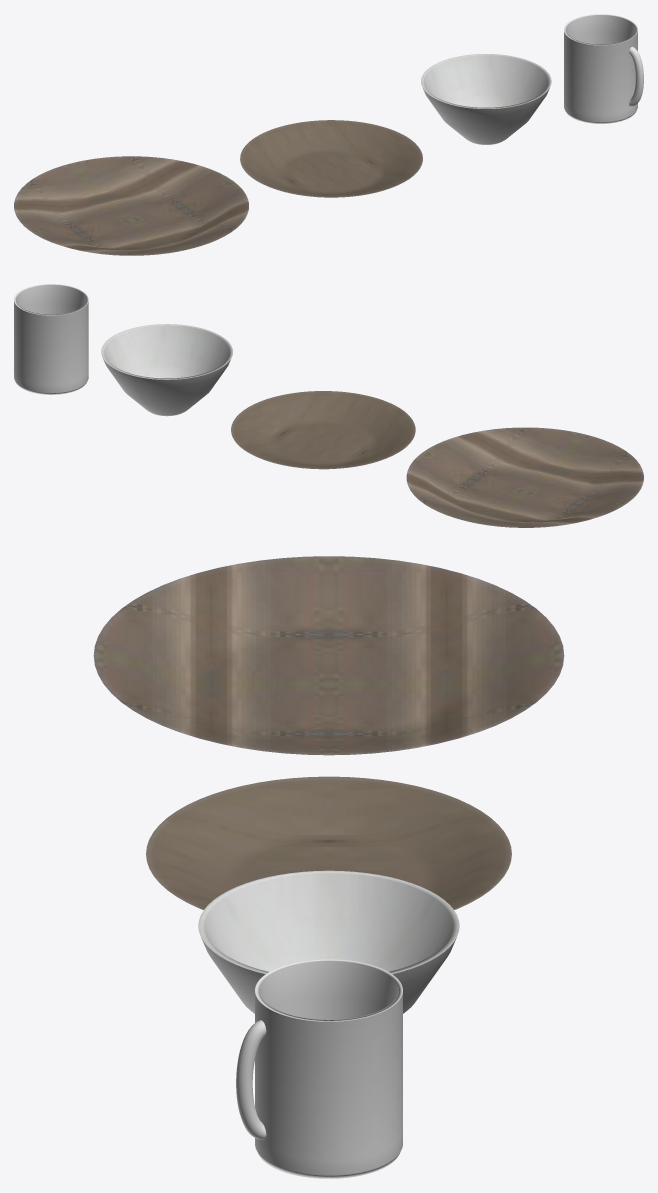
File: MAR-05.glb
The picture shows the model from 3 angles, top to bottom: view 1: azimuth 30°, elevation 25°; view 2: azimuth 150°, elevation 25°; view 3: azimuth 270°, elevation 25°; orthographic projection. The views are drawn at different scales.
Bounding box in the file's own units: 0.7995 × 0.1 × 0.27.
Materials: 9 (7 with a texture image).
